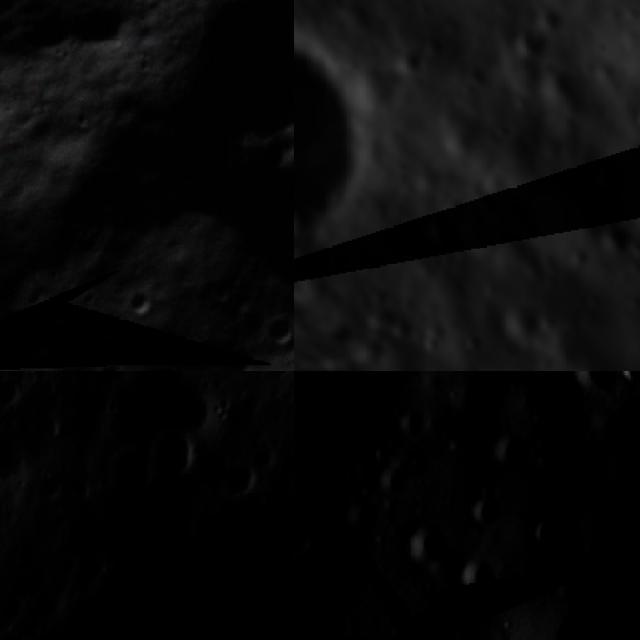crater: (0, 487, 294, 640), (294, 0, 432, 266), (119, 0, 294, 203), (194, 59, 294, 361), (0, 0, 213, 62), (502, 550, 640, 640), (400, 187, 478, 264), (397, 512, 468, 579), (149, 414, 209, 488), (78, 294, 144, 359), (454, 475, 516, 541), (294, 529, 343, 612), (207, 449, 273, 509), (112, 273, 175, 334), (447, 371, 507, 423), (210, 325, 277, 371), (249, 293, 294, 359), (179, 322, 238, 371), (456, 550, 506, 600), (487, 424, 535, 476), (0, 54, 27, 135), (564, 371, 635, 401), (506, 27, 552, 73), (371, 456, 415, 501), (389, 396, 432, 439), (340, 490, 382, 533), (530, 512, 568, 548), (294, 475, 309, 510)
